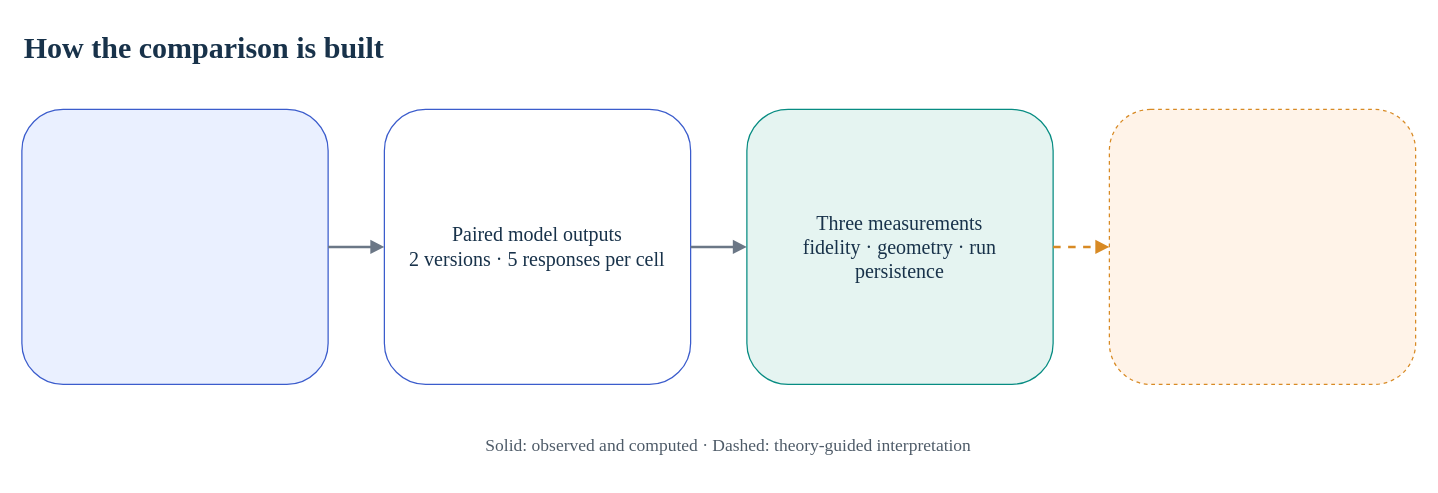
Some shapes in this 1438 by 493 pixel diagram are drawn without their labels. The shapes that lost their labels are listed below. From the top down, each one's centre as x and y in pixels, then its label:
At (x=174, y=246): "Survey patterns 64 countries · 6 WVS items".
At (x=1262, y=246): "Economic reading opportunity · adjustment · coordination".
